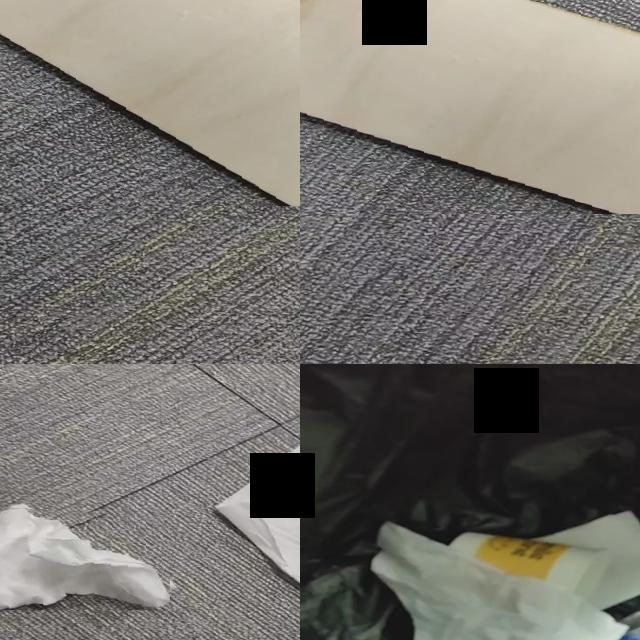carton: (300, 0, 640, 214), (0, 0, 300, 206)
dixie_cup: (448, 533, 608, 600)
paper: (372, 525, 627, 640), (0, 507, 170, 608), (538, 512, 640, 608)
